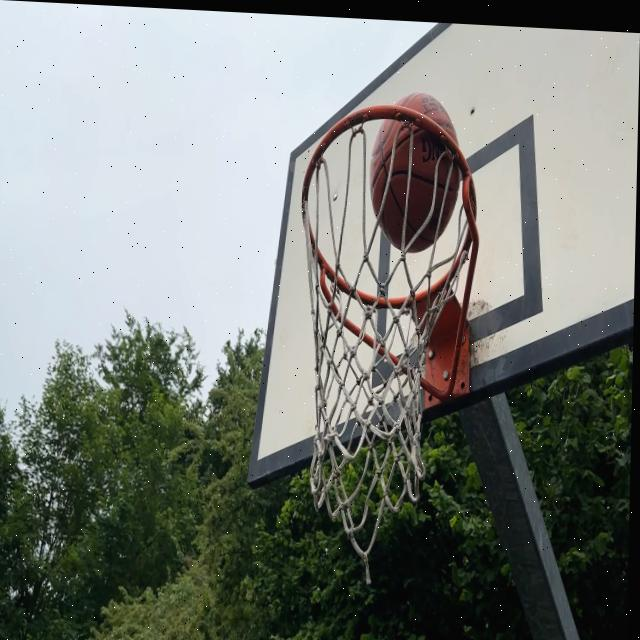rebound_hit: (368, 90, 463, 253)
